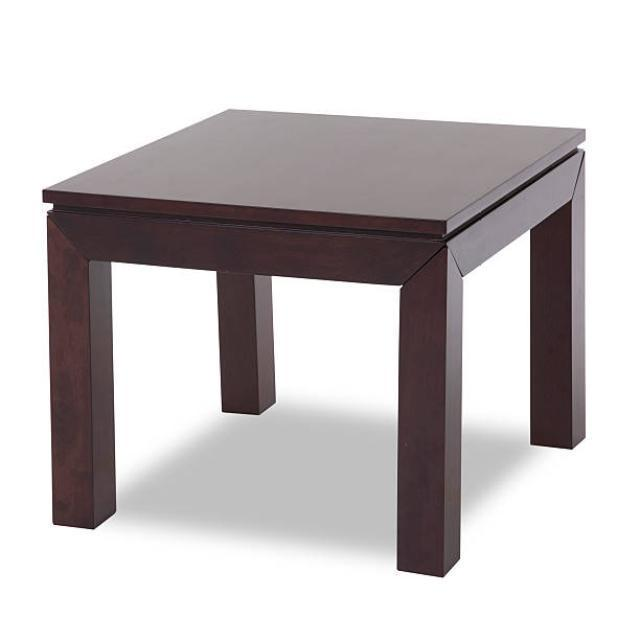table: (41, 105, 586, 578)
